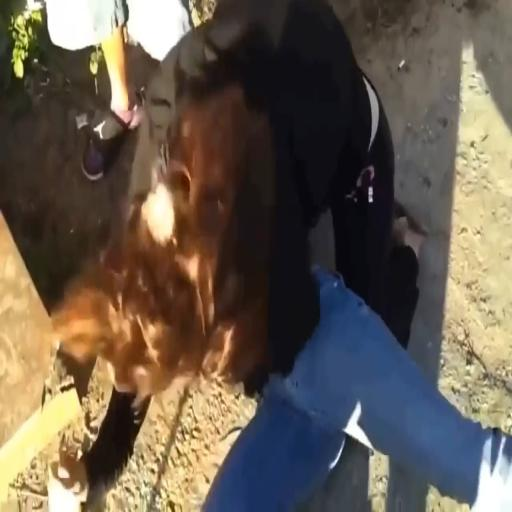violencia: (34, 2, 510, 512)
